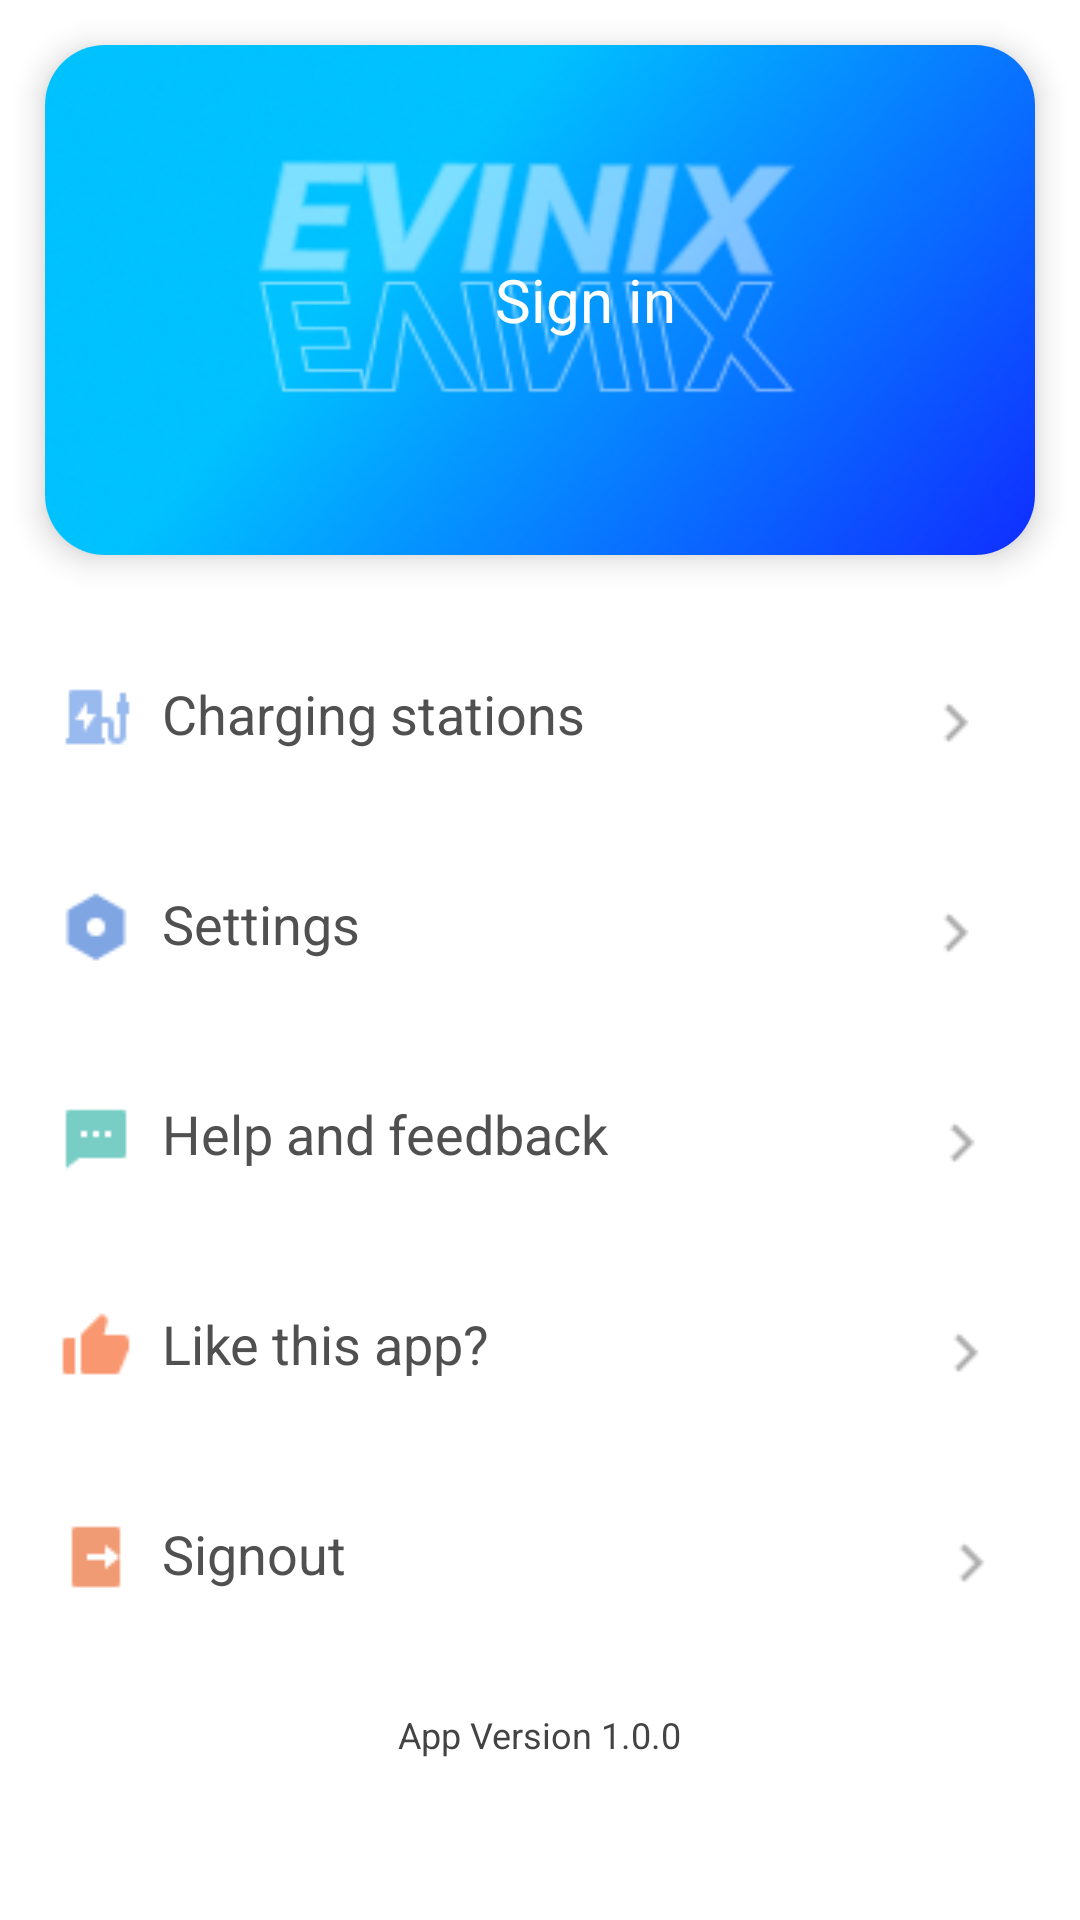

Icons on this 1080×1920 Android screen, each with its box as rect(x1, y1, x2, y2):
arrow: rect(945, 704, 968, 742), rect(945, 914, 968, 952), rect(951, 1124, 974, 1162), rect(955, 1334, 978, 1372), rect(960, 1544, 984, 1582)
charge flag: rect(65, 689, 130, 745)
message gr: rect(65, 1109, 127, 1169)
setting or: rect(66, 893, 126, 961)
